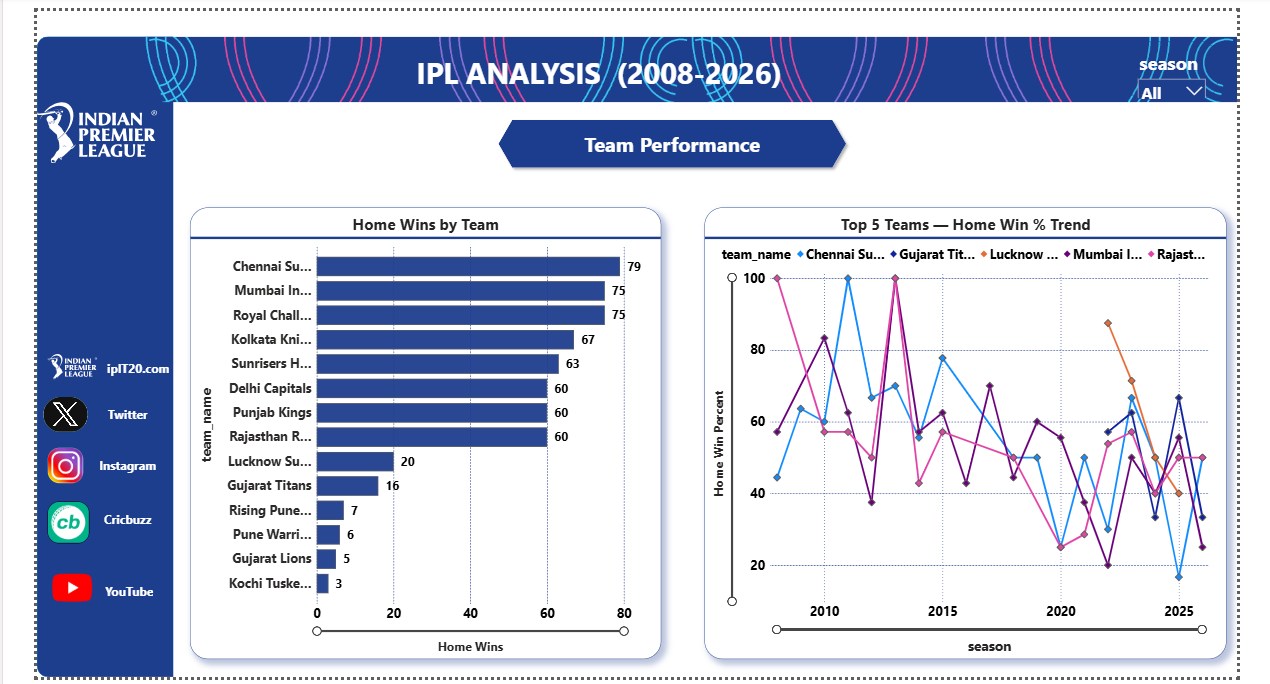

Layout of this report page (visuals, bound fields, positions):
{"tool":"powerbi","page":{"name":"Team Performance","canvas":[2000,1110],"ordinal":3},"visuals":[{"type":"shape","box":[0,42.5,227.5,1067.5],"z":0},{"type":"image","box":[1090,42.5,910,110],"z":1000},{"type":"image","box":[180,42.5,910,110],"z":2000},{"type":"textbox","box":[627.5,65,730,80],"z":3000},{"type":"slicer","fields":{"Values":["ipl_db matches.season"]},"box":[1815,50,152.5,97.5],"z":4000},{"type":"image","box":[0,105,200,195],"z":5000},{"type":"actionButton","box":[110,565,117.5,60],"z":6000},{"type":"image","box":[17.5,565,82.5,55],"z":7000},{"type":"actionButton","box":[92.5,642.5,117.5,60],"z":8000},{"type":"image","box":[10,642.5,75,60],"z":9000},{"type":"actionButton","box":[92.5,727.5,117.5,60],"z":10000},{"type":"image","box":[17.5,727.5,60,60],"z":11000},{"type":"actionButton","box":[92.5,817.5,117.5,60],"z":12000},{"type":"image","box":[17.5,817.5,70,70],"z":13000},{"type":"actionButton","box":[105,942.5,97.5,47.5],"z":14000},{"type":"image","box":[25,932.5,67.5,57.5],"z":15000},{"type":"clusteredBarChart","title":"Home Wins by Team","fields":{"Category":["ipl_db teams.team_name"],"Y":["ipl_db matches.Home Wins"]},"box":[255,327.5,785,752.5],"z":16000},{"type":"lineChart","title":"Top 5 Teams — Home Win % Trend","fields":{"Category":["ipl_db matches.season"],"Y":["ipl_db matches.Home Win Percent"],"Series":["ipl_db teams.team_name"]},"box":[1112.5,327.5,870,752.5],"z":17000},{"type":"shape","box":[760,172.5,597.5,97.5],"z":18000}]}

Visuals, with their boxes on the page's 2000x1110 design canvas (x1, y1, x2, y2). These are canvas units, not pixel positions in the 1270x684 screenshot, which may show the page scaled, cropped or inside an application window:
shape: Rect(0, 42, 228, 1110)
image: Rect(1090, 42, 2000, 152)
image: Rect(180, 42, 1090, 152)
textbox: Rect(628, 65, 1358, 145)
slicer - ipl_db matches.season: Rect(1815, 50, 1968, 148)
image: Rect(0, 105, 200, 300)
actionButton: Rect(110, 565, 228, 625)
image: Rect(18, 565, 100, 620)
actionButton: Rect(92, 642, 210, 702)
image: Rect(10, 642, 85, 702)
actionButton: Rect(92, 728, 210, 788)
image: Rect(18, 728, 78, 788)
actionButton: Rect(92, 818, 210, 878)
image: Rect(18, 818, 88, 888)
actionButton: Rect(105, 942, 202, 990)
image: Rect(25, 932, 92, 990)
"Home Wins by Team" clusteredBarChart: Rect(255, 328, 1040, 1080)
"Top 5 Teams — Home Win % Trend" lineChart: Rect(1112, 328, 1982, 1080)
shape: Rect(760, 172, 1358, 270)
